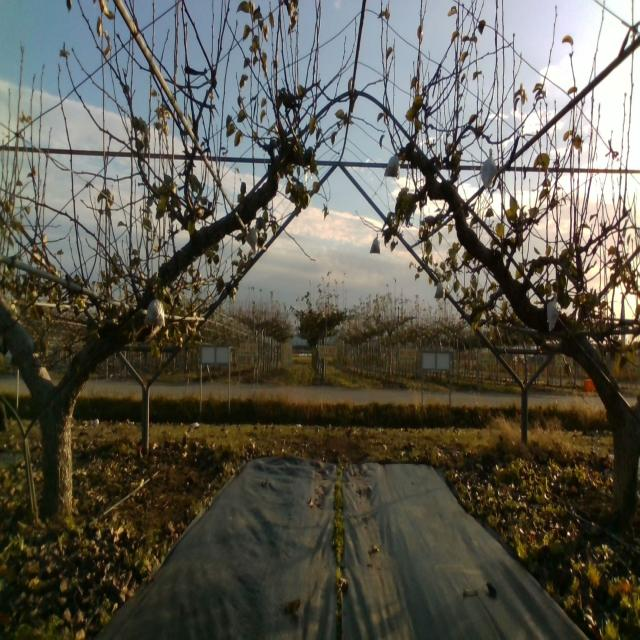pearbags: (144, 294, 167, 328), (481, 148, 497, 188), (545, 297, 561, 333), (245, 228, 259, 256), (383, 155, 399, 178), (368, 233, 381, 254), (433, 280, 444, 299)
